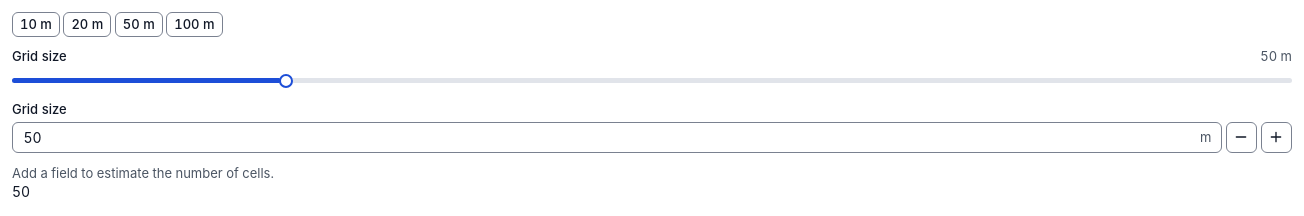
GridSizeField › types an exact grid size into the number field
This screenshot has width=1304, height=216.
Replace the text in the number field labelled "Grid size" with "75" at [617, 137], box [12,122,1222,153]
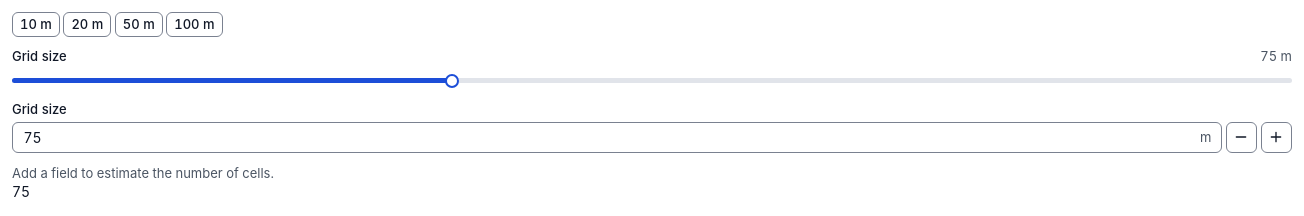
Expected: the text with test id "grid-size" reads "75", [12,182,30,200]
